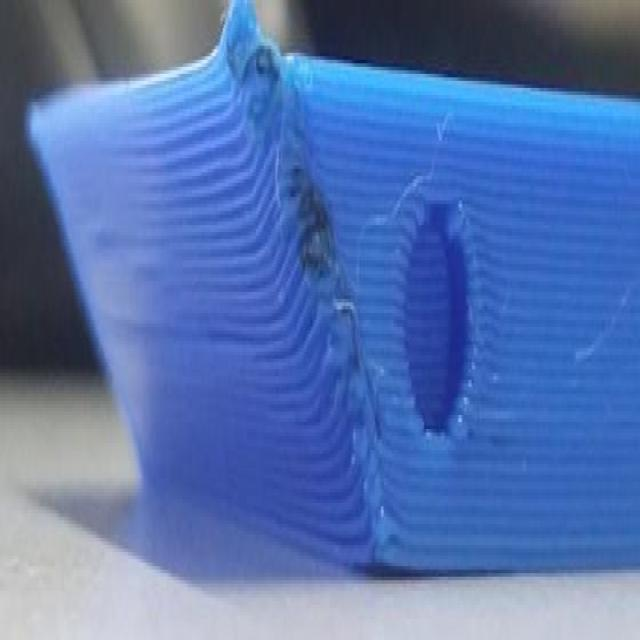Warping: (321, 525, 542, 613)
